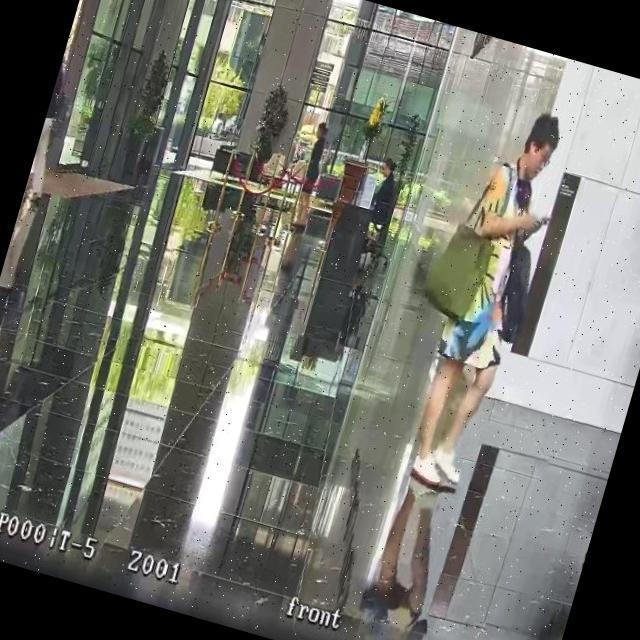person: (394, 100, 578, 507), (21, 41, 84, 208), (288, 120, 336, 231), (366, 157, 403, 223)
